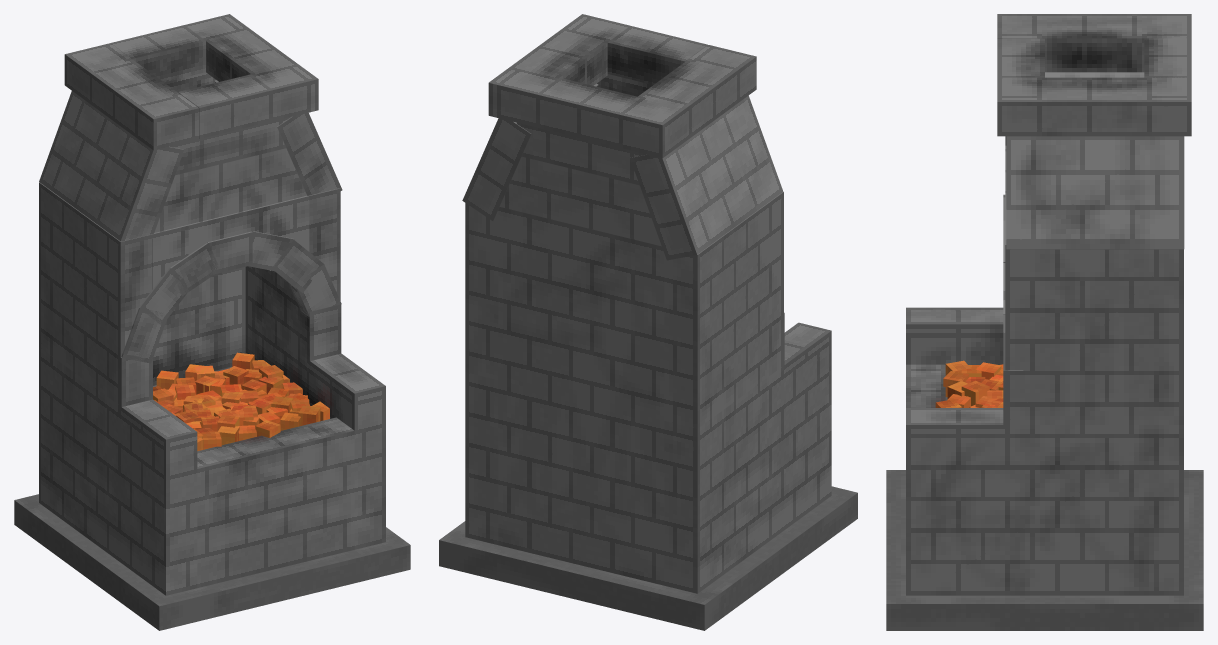
Rendered from forge.gltf.
3 renders of one model, left to right at view 1: azimuth 30°, elevation 25°; view 2: azimuth 150°, elevation 25°; view 3: azimuth 270°, elevation 25°, orthographic. The views are drawn at different scales.
Visible parts, largest first — view 1: cube (×28); view 2: cube (×15); view 3: cube (×11).
Boxes of the visible parts, left/top/right/bottom form: cube (×28): left=14, top=14, right=410, bottom=630; cube (×15): left=439, top=14, right=857, bottom=630; cube (×11): left=886, top=14, right=1203, bottom=630.
Size of the model in its own units: 1 by 1.76 by 1.
Materials: 1 (1 with a texture image).
